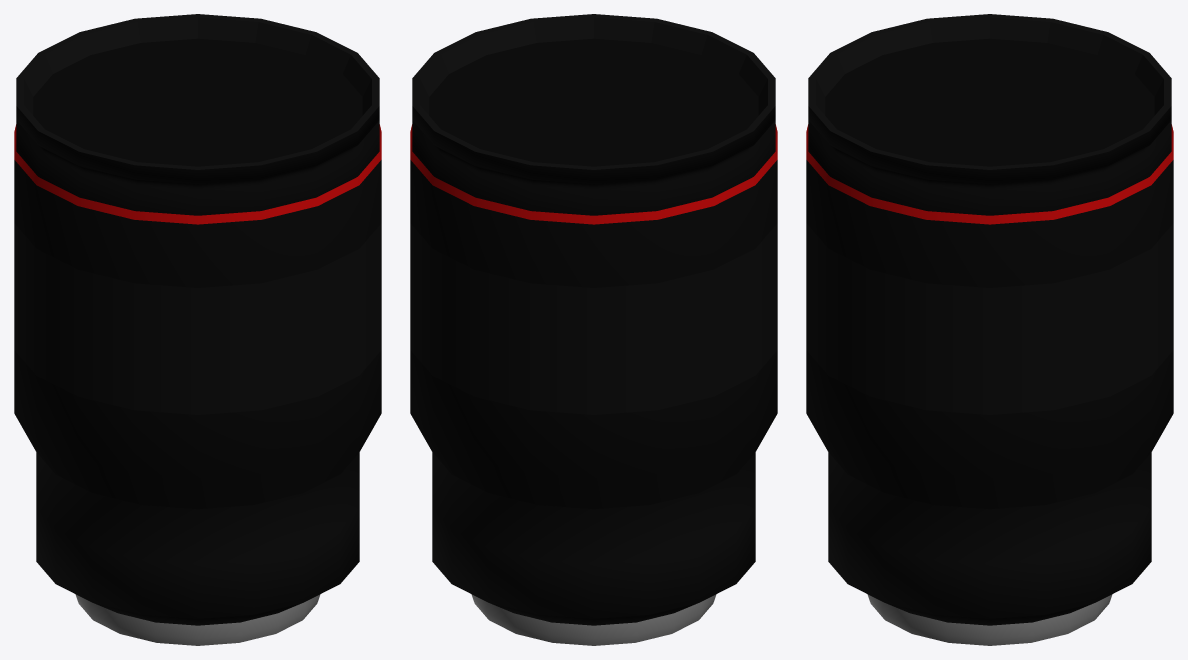
File: WideAngleLens.fbx
The picture shows the model from 3 angles, left to right: view 1: azimuth 30°, elevation 25°; view 2: azimuth 150°, elevation 25°; view 3: azimuth 270°, elevation 25°; orthographic projection.
Visible parts, largest first — view 1: Cylinder001; view 2: Cylinder001; view 3: Cylinder001.
Boxes of the visible parts, box(x1,y1,x2,y2) form: Cylinder001: box(14, 14, 381, 645); Cylinder001: box(410, 14, 777, 645); Cylinder001: box(806, 14, 1173, 645).
Bounding box in the file's own units: 37.5 × 36.93 × 55.76.
